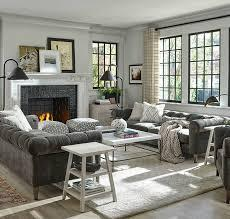chair: (56, 147, 117, 211), (202, 127, 228, 176), (214, 128, 230, 206), (33, 120, 67, 139), (66, 114, 103, 131)
light: (96, 61, 130, 107), (0, 58, 29, 109)
sofa: (0, 103, 102, 199), (110, 103, 225, 153)
table: (98, 125, 166, 163), (91, 101, 120, 124)
